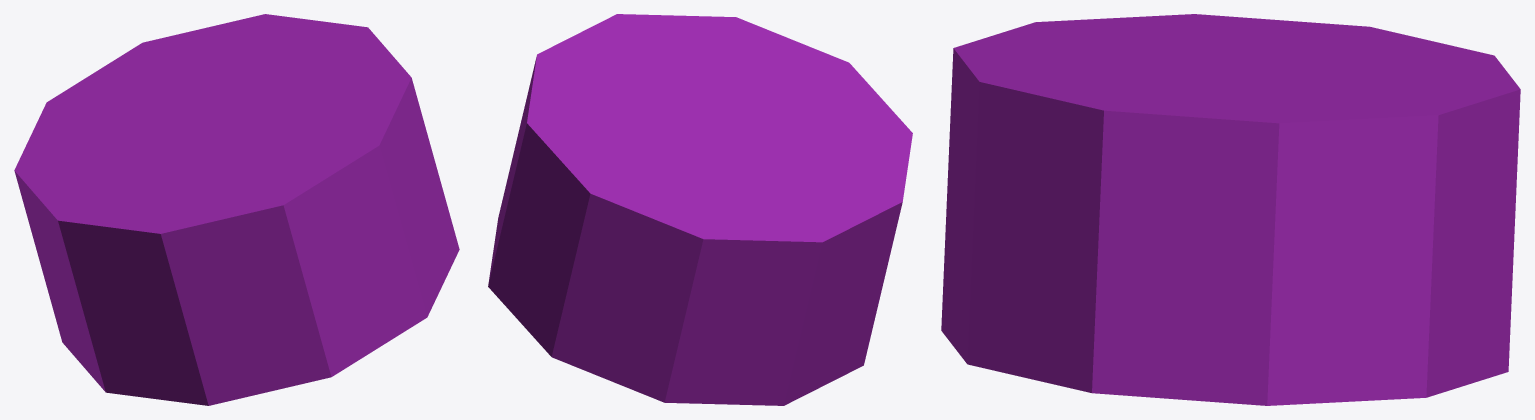
File: group56422566_lev3.glb
3 renders of one model, left to right at view 1: azimuth 30°, elevation 25°; view 2: azimuth 150°, elevation 25°; view 3: azimuth 270°, elevation 25°, orthographic. The views are drawn at different scales.
Parts seen in each view (by area): view 1: group56422566_lev3; view 2: group56422566_lev3; view 3: group56422566_lev3.
Part boxes in pixels (x1,y1,x2,y2): group56422566_lev3: (14,14,459,405); group56422566_lev3: (488,14,912,405); group56422566_lev3: (941,14,1520,405).
Size of the model in its own units: 0.5953 by 0.3968 by 0.553.
